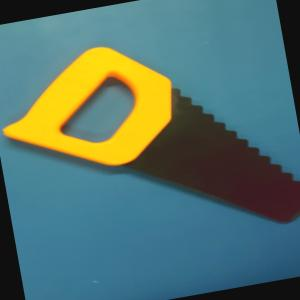serrote: (0, 14, 300, 270)
